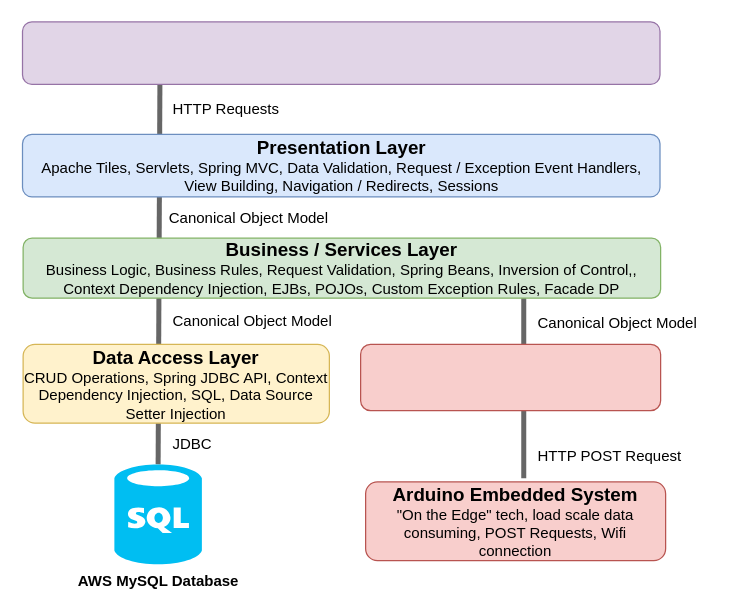
Image size: 731x613. Some labels were removed from this diagram. The shapes that lost their labels are listed below. From the top down, each one's centre as x and y in pixels, then its label:
At point (340, 52): "Client Layer (Browsers) Google Chart API, HTML, JSP, CSS, Javascript, JQuery".
At point (510, 377): "RESTful Services Spring Framework API, Data Transfer Objects (Response Entity)".
